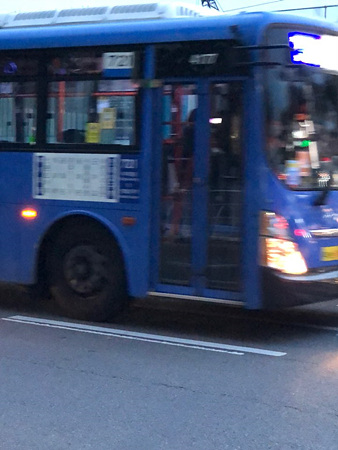entrance: (154, 71, 258, 302)
